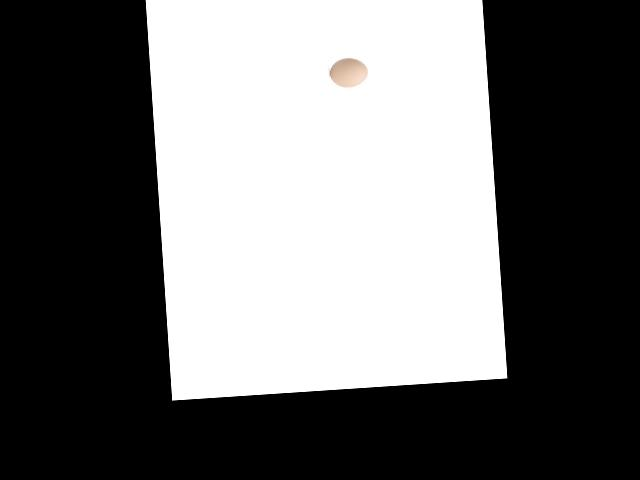egg: (328, 56, 368, 87)
